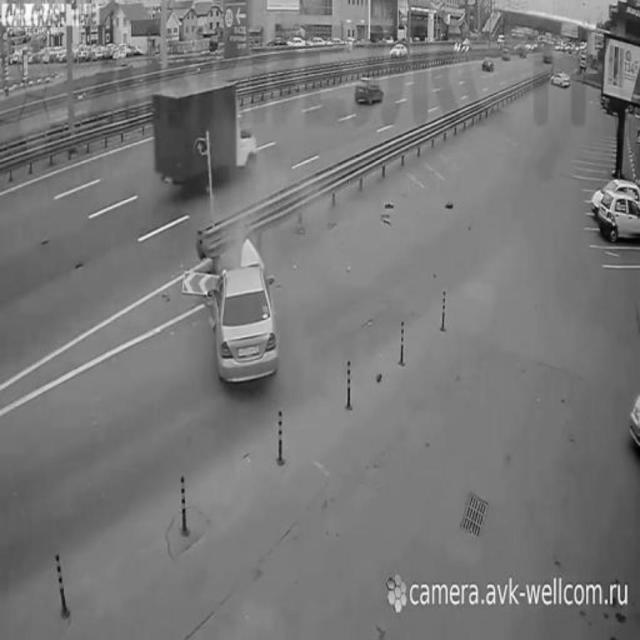vehicle: (146, 81, 258, 191), (209, 268, 282, 390), (596, 187, 640, 244), (353, 75, 383, 109), (550, 66, 572, 90), (387, 39, 411, 56), (479, 54, 499, 74)
